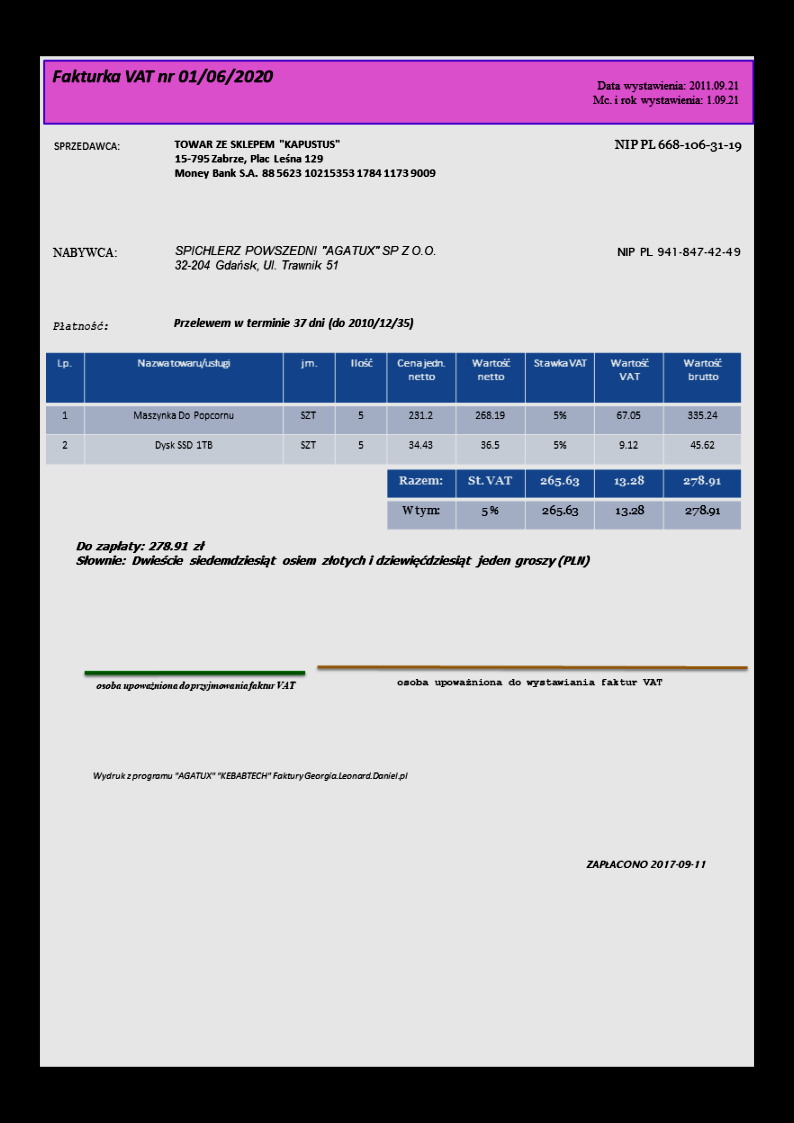Table: (44, 350, 743, 467), (386, 467, 743, 530)
TextBox: (74, 538, 592, 571), (171, 138, 436, 180), (172, 242, 439, 273), (589, 76, 740, 108), (51, 67, 275, 88), (92, 769, 410, 783), (171, 315, 414, 332), (395, 675, 664, 689), (95, 679, 297, 693), (611, 136, 743, 155), (616, 245, 743, 260), (584, 856, 708, 871), (51, 244, 119, 260), (51, 139, 121, 153), (51, 318, 109, 332)
